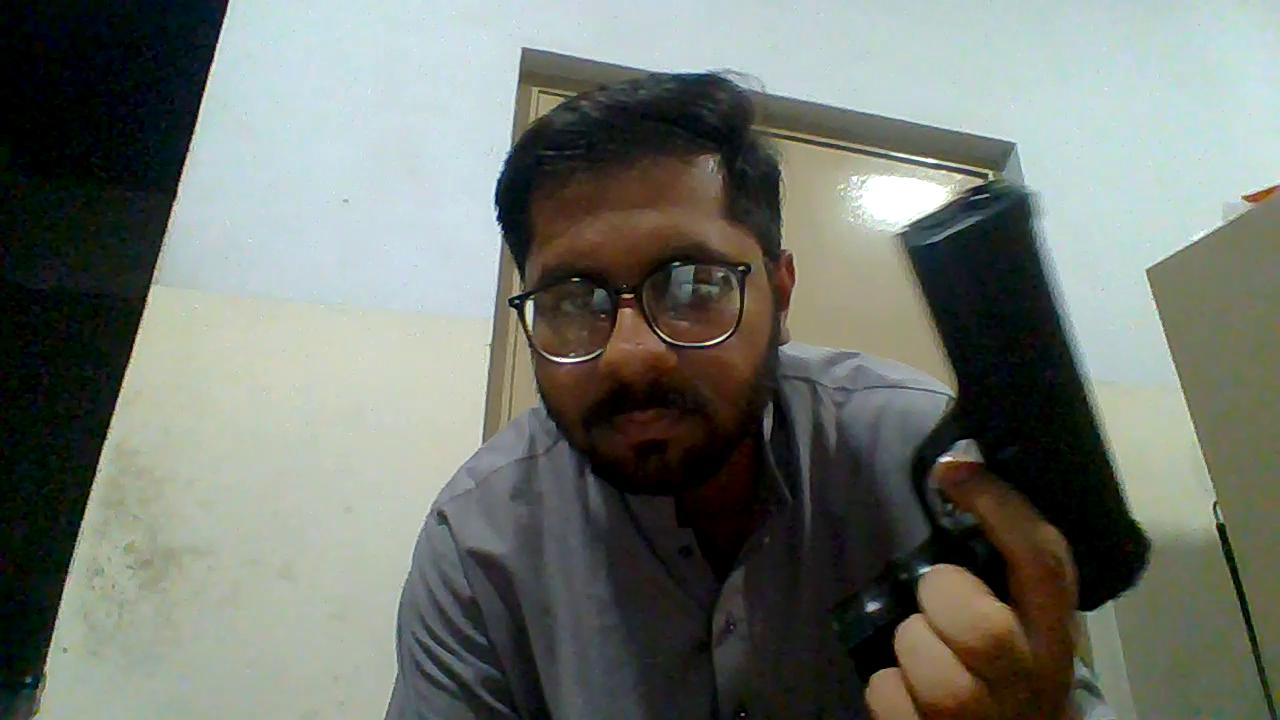criminal: (382, 69, 1153, 720)
weapon: (856, 174, 1153, 673)
